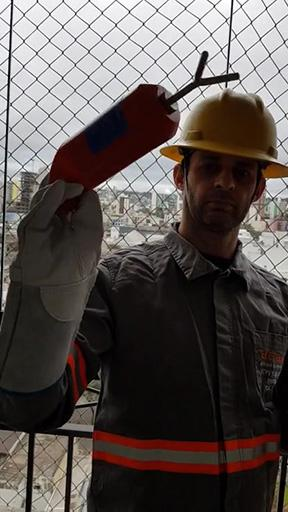Detector_Tensao_Contato: (51, 50, 241, 198)
